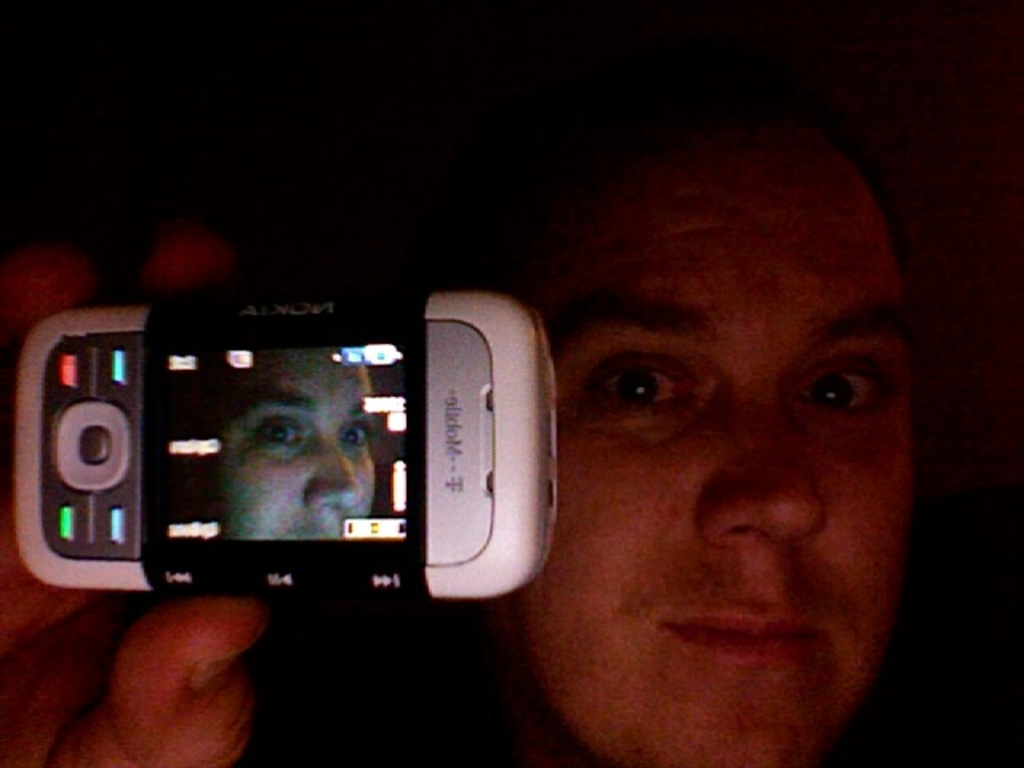mobile phone: (6, 286, 494, 603)
